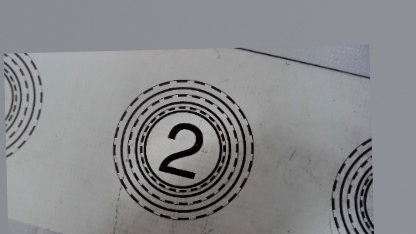2r: (109, 77, 256, 224)
